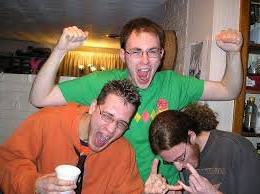Drunk: (91, 89, 130, 151), (124, 32, 162, 87)
